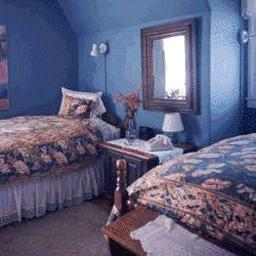Cama: (108, 125, 253, 226), (1, 103, 117, 228)
